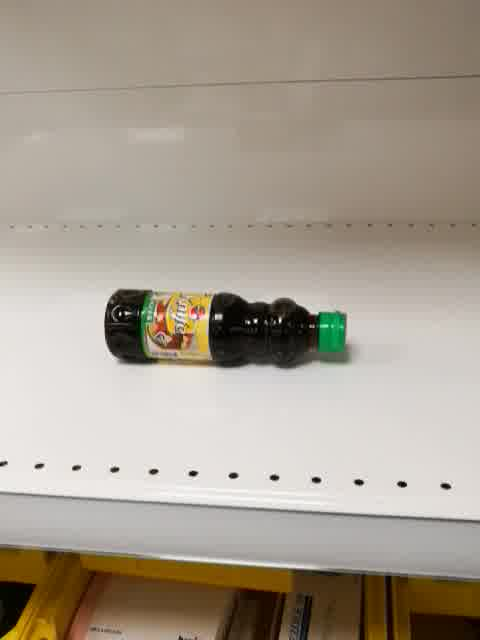cookingoil: (102, 288, 350, 371)
